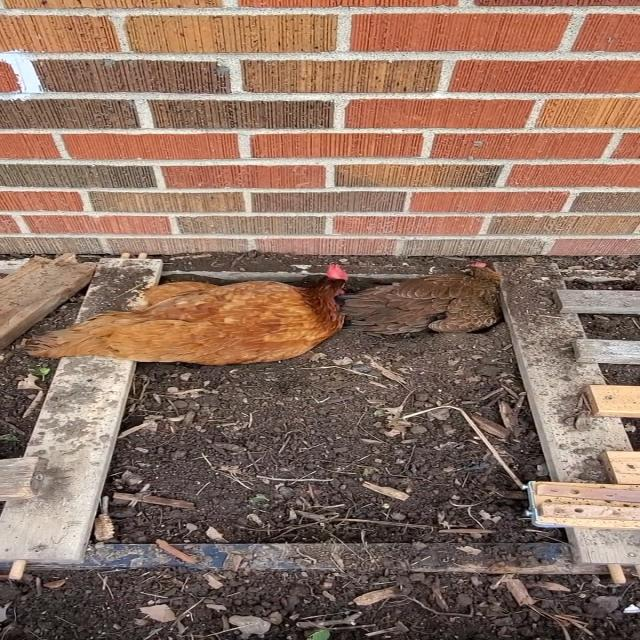stand bath: (12, 268, 378, 364), (337, 250, 507, 332)
